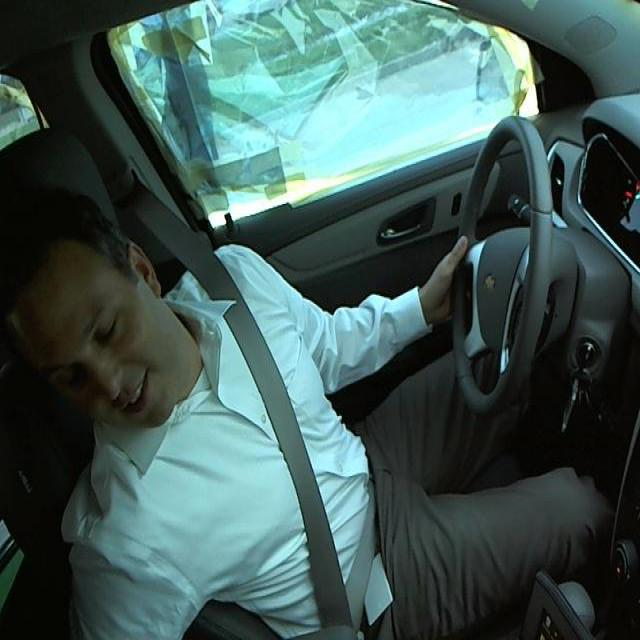seatbelt: (198, 277, 382, 636)
